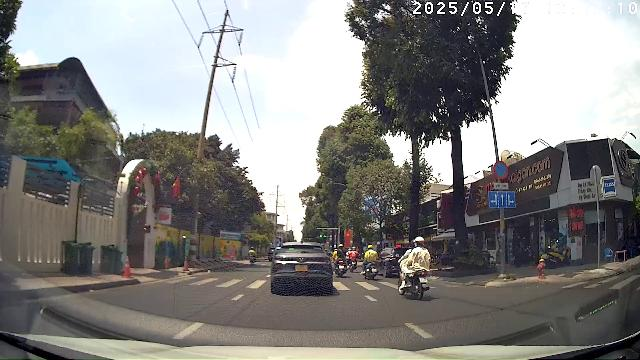131a-cam-do-xe: (494, 160, 509, 179)
